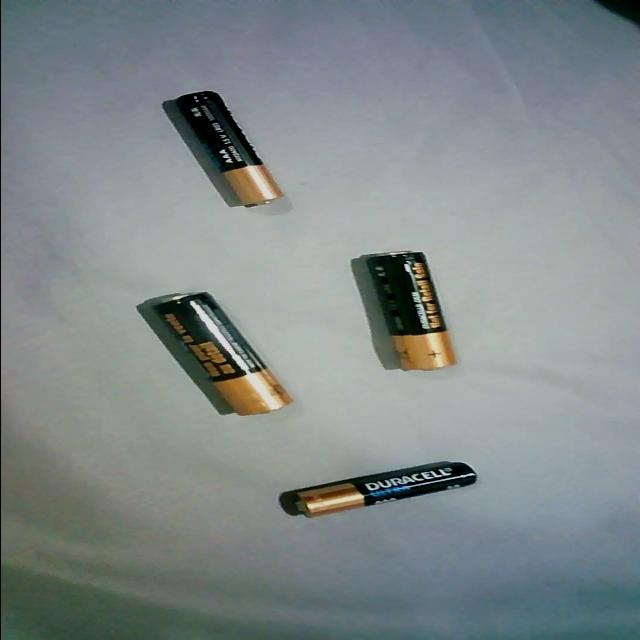AA: (137, 288, 300, 420), (356, 248, 468, 374)
AAA: (158, 89, 292, 211), (278, 456, 482, 520)
